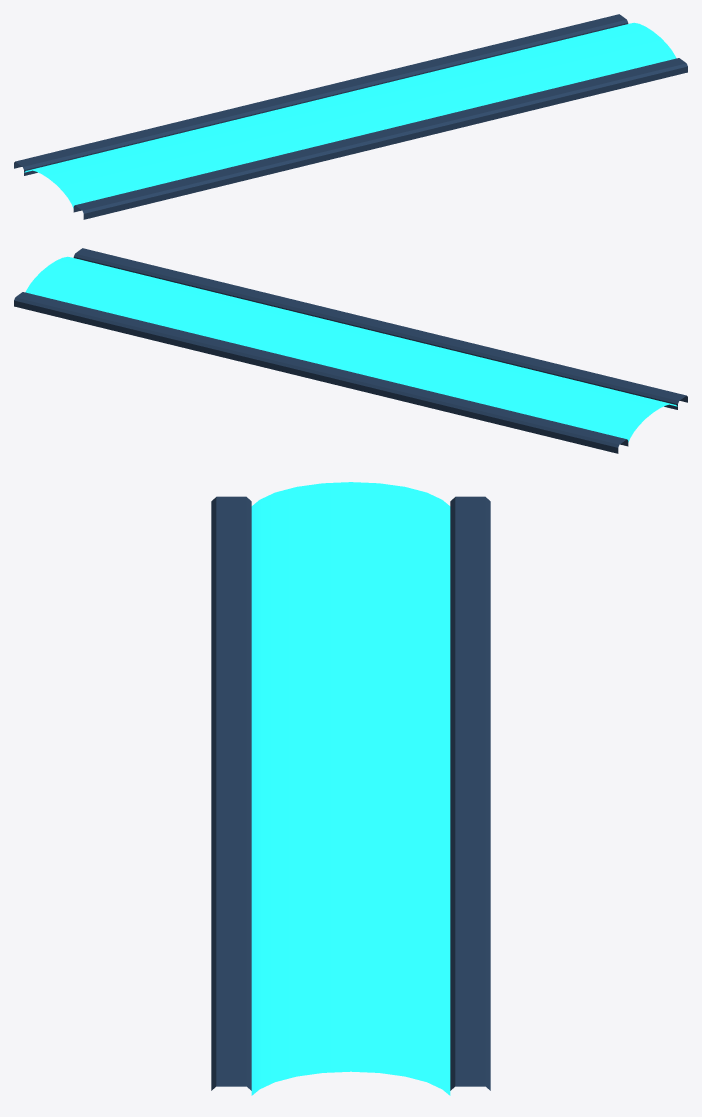
File: Light_Trim_01_Straight_50.glb
3 views of the same model, one above another, from view 1: azimuth 30°, elevation 25°; view 2: azimuth 150°, elevation 25°; view 3: azimuth 270°, elevation 25° (orthographic). The views are drawn at different scales.
Visible parts, largest first — view 1: Light_Trim_01_Straight_50.001; view 2: Light_Trim_01_Straight_50.001; view 3: Light_Trim_01_Straight_50.001.
Part boxes in pixels (x1,y1,x2,y2): Light_Trim_01_Straight_50.001: (14,14,687,219); Light_Trim_01_Straight_50.001: (14,248,687,453); Light_Trim_01_Straight_50.001: (211,482,490,1095).
Bounding box in the file's own units: 0.5 × 0.0123 × 0.1.
